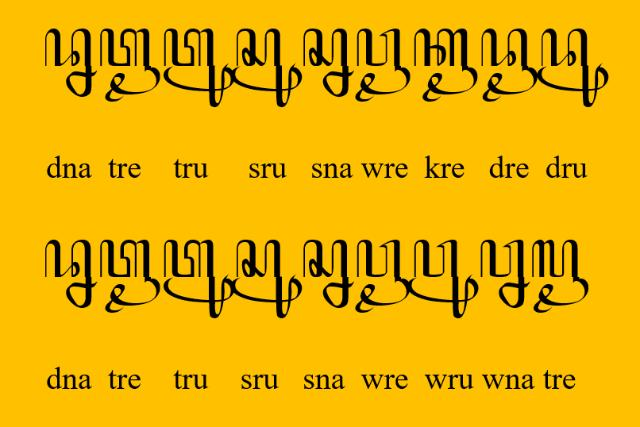dn: (44, 28, 98, 98), (43, 239, 97, 309)
dre: (480, 28, 538, 102)
dru: (537, 28, 609, 108)
kre: (414, 27, 478, 101)
lre: (531, 239, 589, 314)
sn: (303, 239, 355, 309), (302, 28, 353, 98)
sru: (232, 27, 302, 107), (233, 238, 303, 318)
tre: (99, 239, 161, 313), (100, 29, 160, 104)
tru: (163, 239, 234, 318), (164, 28, 234, 108)
wn: (480, 239, 530, 309)
wre: (354, 27, 411, 103), (356, 239, 410, 314)
wru: (408, 239, 478, 319)
